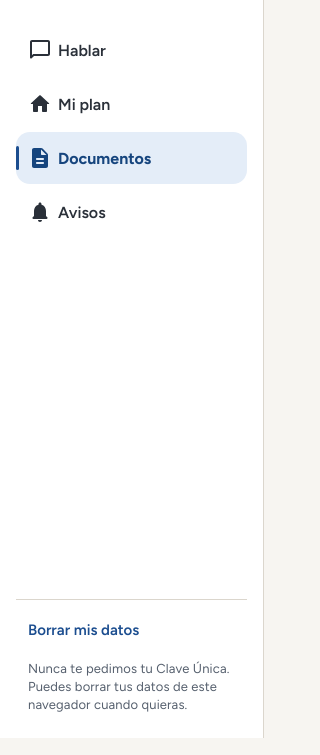
Test case: SidebarEscritorio › cancelar la confirmación deja los datos intactos y vuelve a mostrar "Borrar mis datos"
Click the button "Borrar mis datos" at (132, 630), box [16,606,247,654]
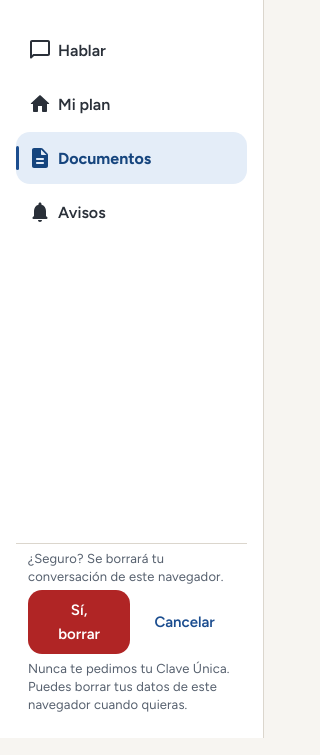
Click the button "Cancelar" at (185, 622), box [134,590,235,654]
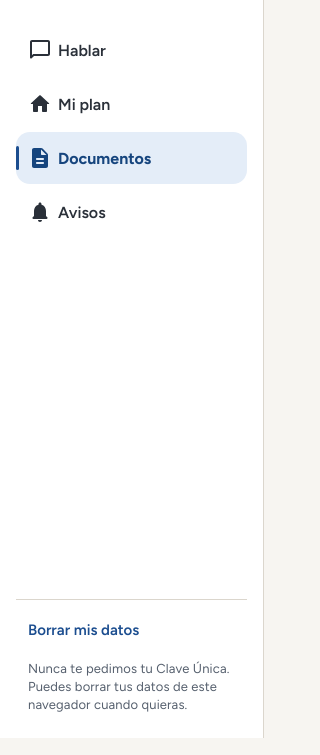
expect the button "Borrar mis datos" is shown: met, box [16,606,247,654]
